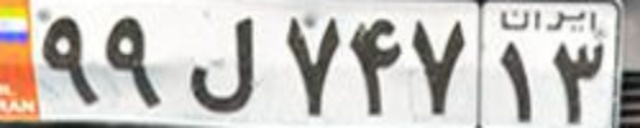1: (501, 42, 533, 123)
3: (551, 41, 602, 124)
4: (347, 15, 401, 115)
7: (412, 17, 466, 116), (287, 13, 336, 119)
9: (40, 15, 100, 104), (105, 15, 163, 106)
lam: (188, 14, 258, 113)
